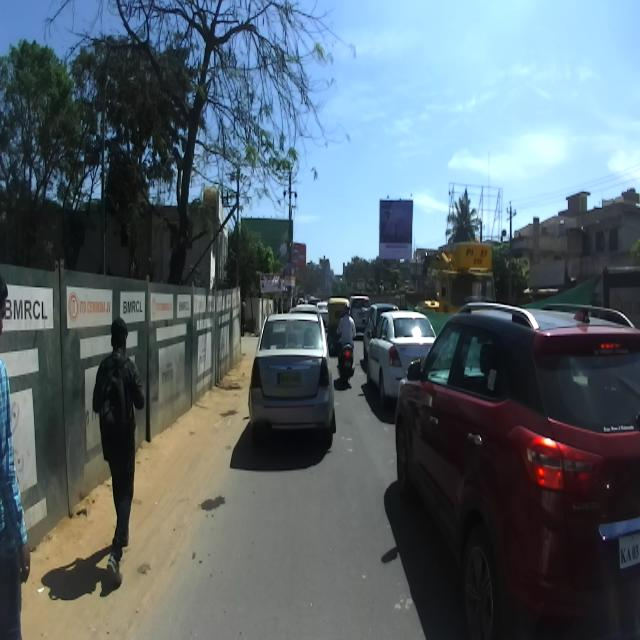car ahead at: (389, 303, 640, 640), (243, 304, 339, 446)
person ahead at: (94, 314, 147, 595)
